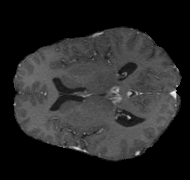Edema: (93, 73, 132, 112)
EnhancingTumors: (101, 84, 126, 106)
Necrosis: (101, 89, 122, 103)
